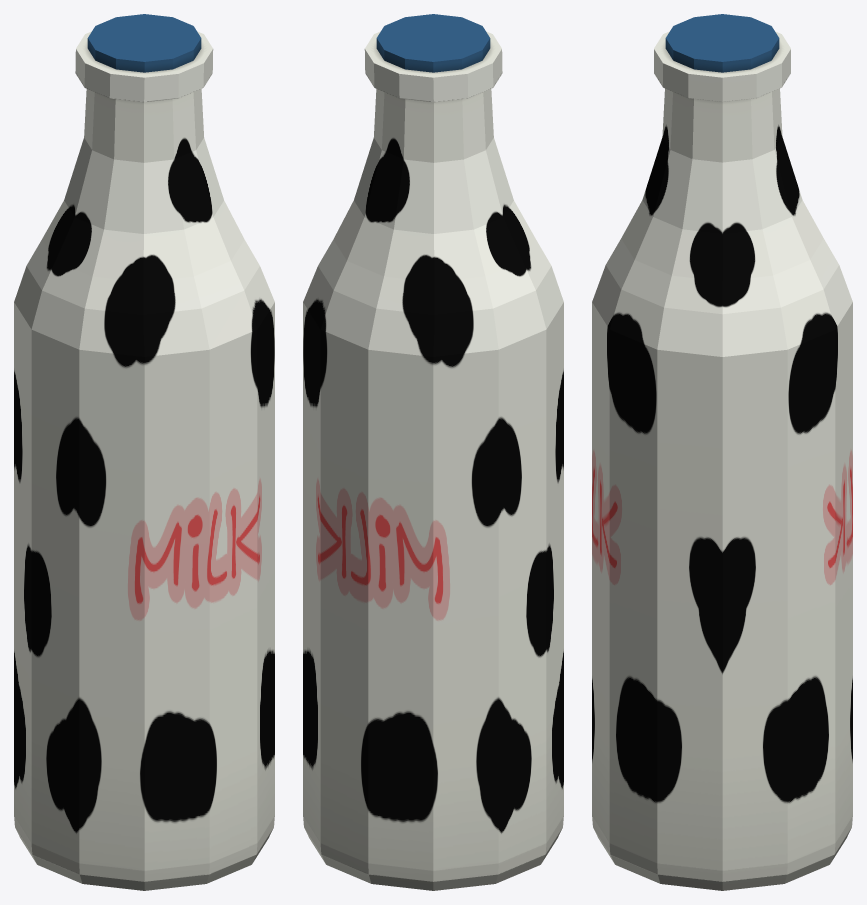
Rendered from latte.fbx.
The picture shows the model from 3 angles, left to right: view 1: azimuth 30°, elevation 25°; view 2: azimuth 150°, elevation 25°; view 3: azimuth 270°, elevation 25°; orthographic projection.
Visible parts, largest first — view 1: Cylinder; view 2: Cylinder; view 3: Cylinder.
Boxes of the visible parts, bbox=[...] form: Cylinder: bbox=[14, 14, 274, 890]; Cylinder: bbox=[303, 14, 563, 890]; Cylinder: bbox=[592, 14, 852, 890].
Bounding box in the file's own units: 207 × 699 × 207.
1 material, 1 textured.
